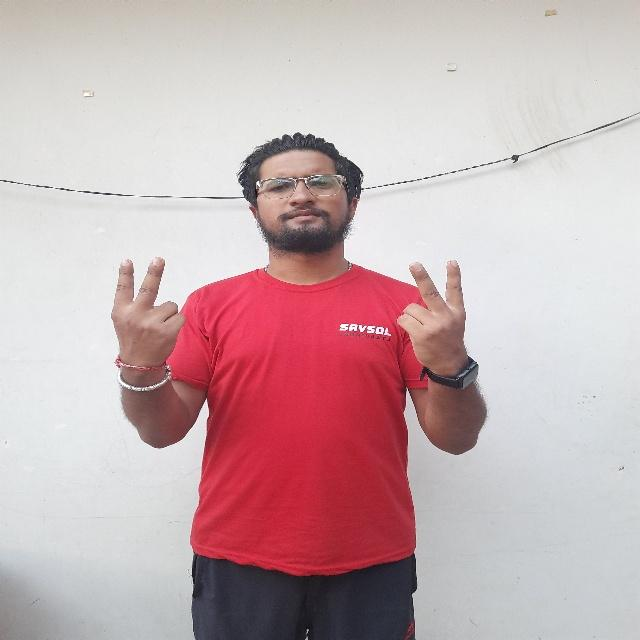Reversed Victory: (390, 252, 476, 384), (98, 248, 180, 383)
